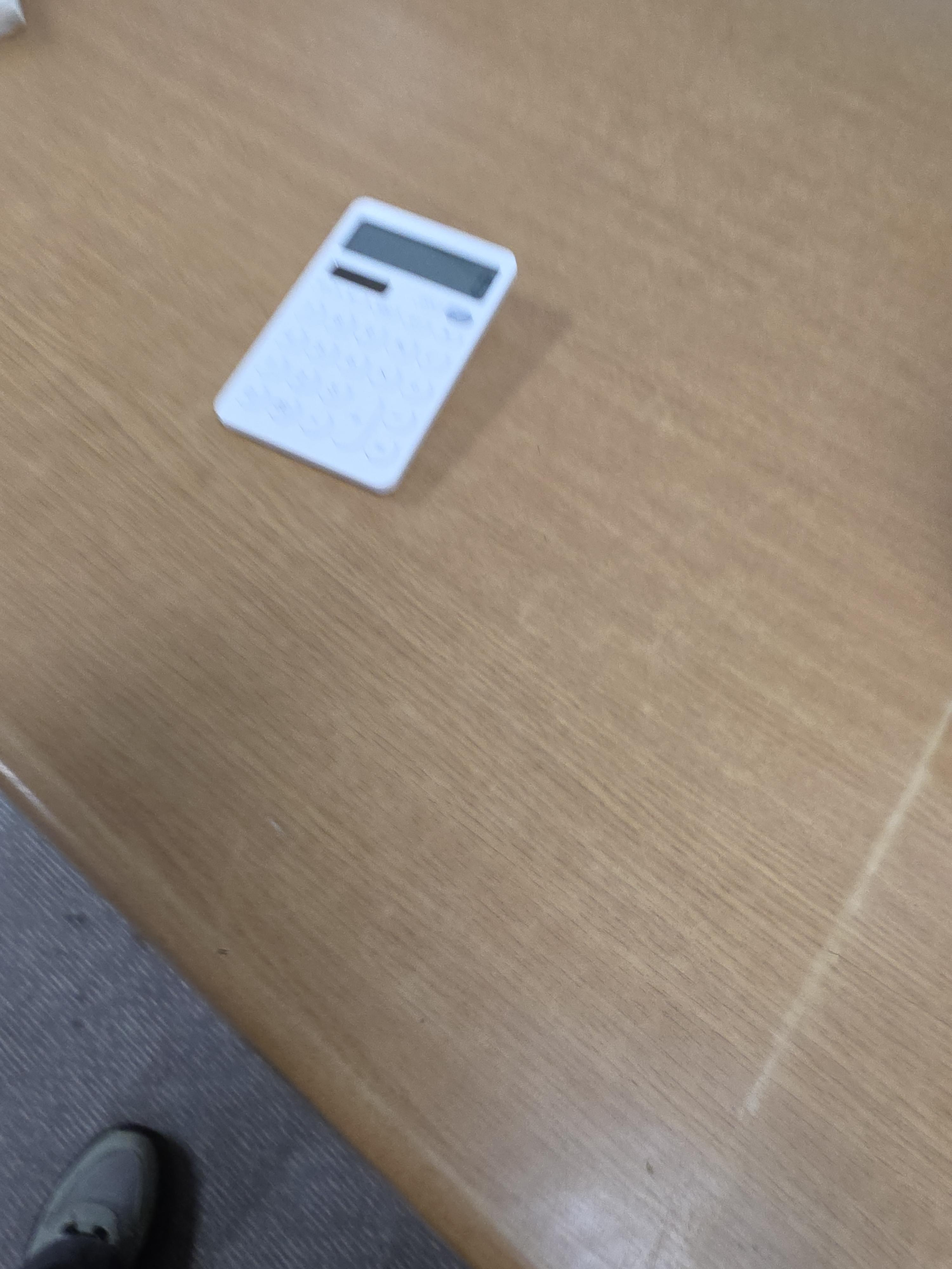calculator: (215, 195, 518, 493)
